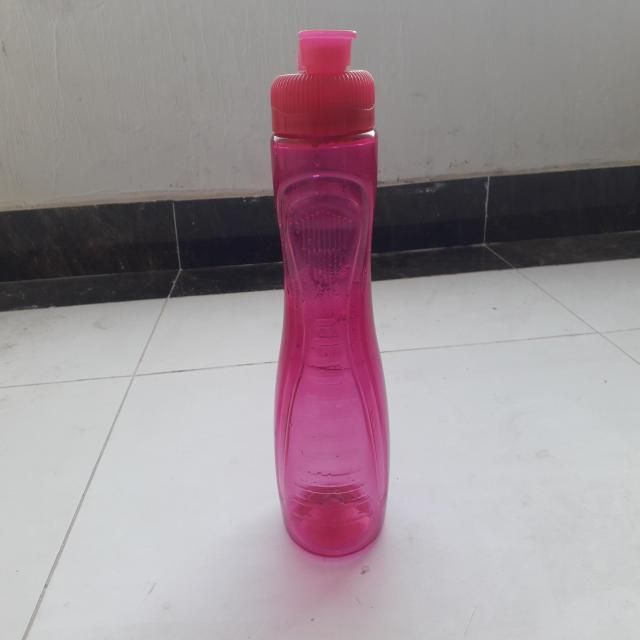gym bottle: (268, 22, 392, 561)
